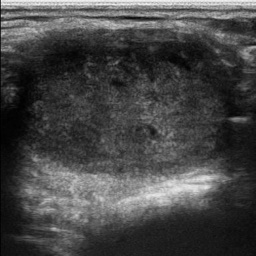mass: (18, 38, 222, 173)
